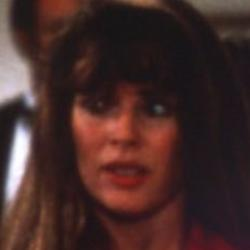face: (13, 6, 229, 230)
